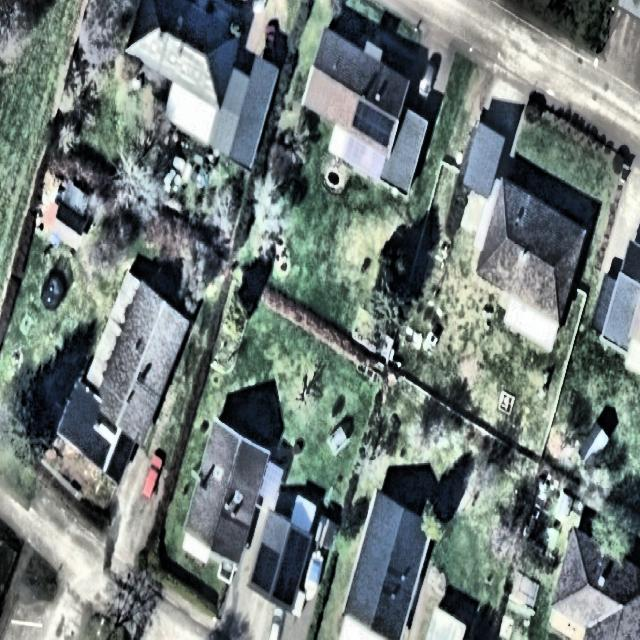roof_pv: (271, 525, 309, 608), (350, 97, 398, 150), (250, 542, 282, 596)
